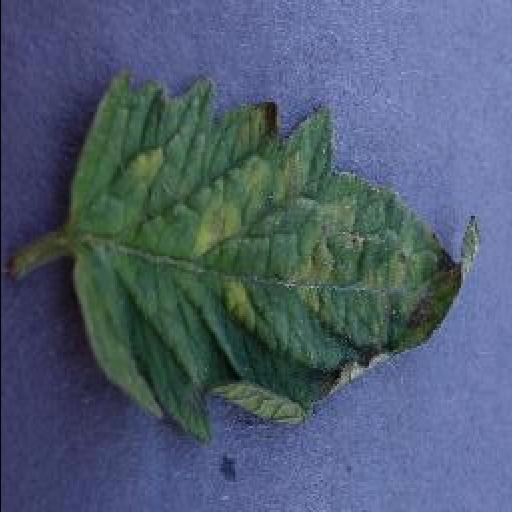disease_tomato: (64, 75, 486, 439)
